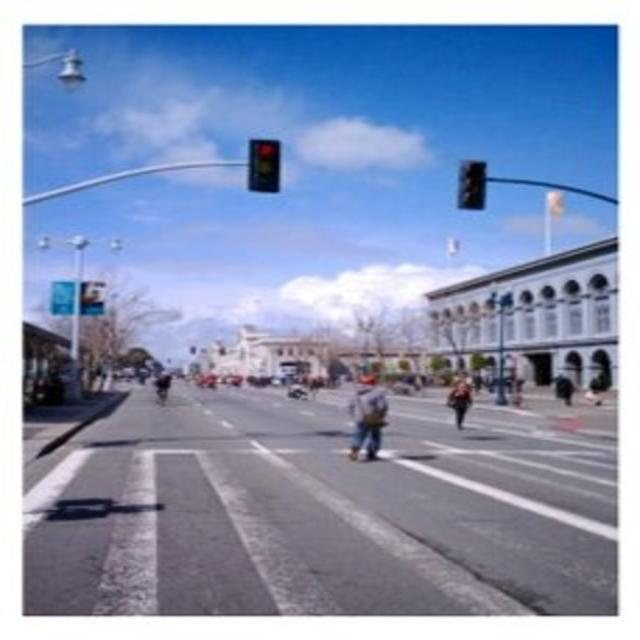traffic light: (242, 134, 284, 198), (458, 159, 489, 210)
